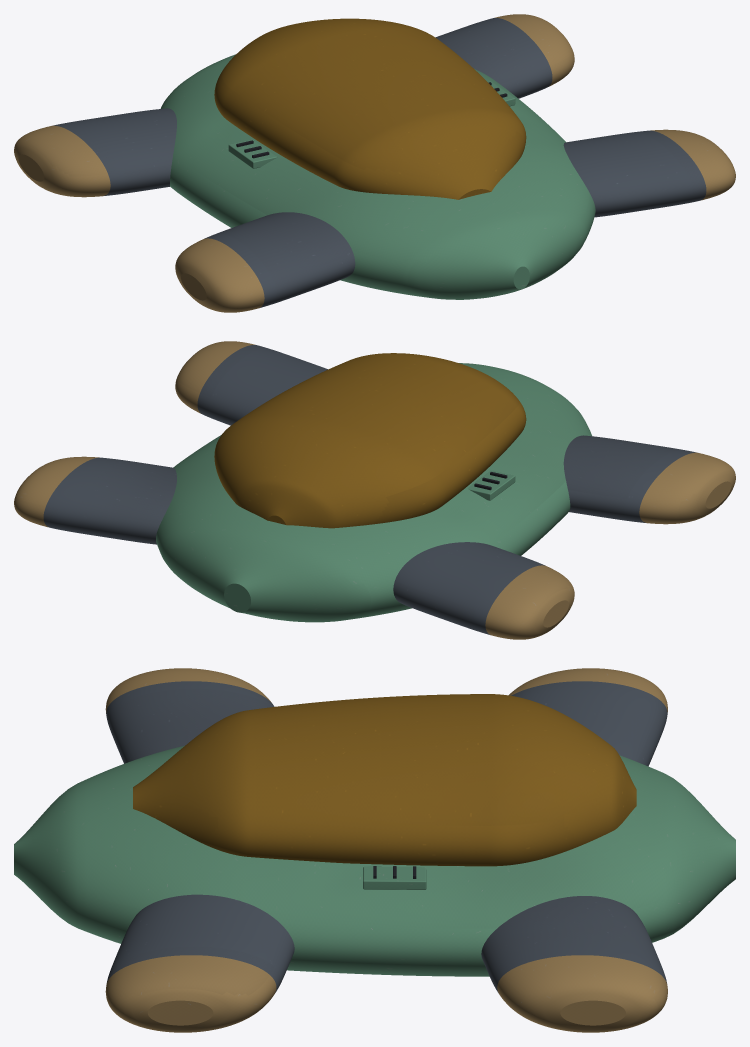
3 views of the same model, one above another, from view 1: azimuth 30°, elevation 25°; view 2: azimuth 150°, elevation 25°; view 3: azimuth 270°, elevation 25° (orthographic). The views are drawn at different scales.
Visible parts, largest first — view 1: Lazzaro Research compact green hull, Lazzaro Research gold central crown, Lazzaro Research grey lobe -1 -1, Lazzaro Research grey lobe -1 1, Lazzaro Research grey lobe 1 -1, Lazzaro Research grey lobe 1 1, Lazzaro Research shoulder cover -1; view 2: Lazzaro Research gold central crown, Lazzaro Research compact green hull, Lazzaro Research grey lobe -1 1, Lazzaro Research grey lobe -1 -1, Lazzaro Research grey lobe 1 1, Lazzaro Research grey lobe 1 -1, Lazzaro Research shoulder cover -1; view 3: Lazzaro Research gold central crown, Lazzaro Research compact green hull, Lazzaro Research grey lobe 1 -1, Lazzaro Research grey lobe 1 1, Lazzaro Research grey lobe -1 -1, Lazzaro Research grey lobe -1 1, Lazzaro Research shoulder cover 1.
Part boxes in pixels (box(x1,y1,x2,y2)): Lazzaro Research compact green hull: box(160, 54, 595, 299); Lazzaro Research gold central crown: box(214, 18, 526, 199); Lazzaro Research grey lobe -1 -1: box(175, 212, 355, 312); Lazzaro Research grey lobe -1 1: box(14, 108, 176, 197); Lazzaro Research grey lobe 1 -1: box(563, 129, 735, 217); Lazzaro Research grey lobe 1 1: box(435, 14, 574, 98); Lazzaro Research shoulder cover -1: box(228, 139, 276, 168); Lazzaro Research gold central crown: box(214, 353, 526, 528); Lazzaro Research compact green hull: box(156, 363, 591, 622); Lazzaro Research grey lobe -1 1: box(393, 542, 574, 639); Lazzaro Research grey lobe -1 -1: box(563, 435, 735, 524); Lazzaro Research grey lobe 1 1: box(14, 456, 176, 544); Lazzaro Research grey lobe 1 -1: box(175, 341, 327, 425); Lazzaro Research shoulder cover -1: box(467, 470, 515, 500); Lazzaro Research gold central crown: box(133, 694, 636, 866); Lazzaro Research compact green hull: box(14, 745, 735, 976); Lazzaro Research grey lobe 1 -1: box(105, 894, 294, 1032); Lazzaro Research grey lobe 1 1: box(481, 896, 667, 1032); Lazzaro Research grey lobe -1 -1: box(105, 668, 274, 763); Lazzaro Research grey lobe -1 1: box(509, 668, 667, 766); Lazzaro Research shoulder cover 1: box(363, 866, 426, 889).
Bounding box in the file's own units: 1.94 × 0.54 × 1.82.
Materials: 5 (4 with a texture image).
